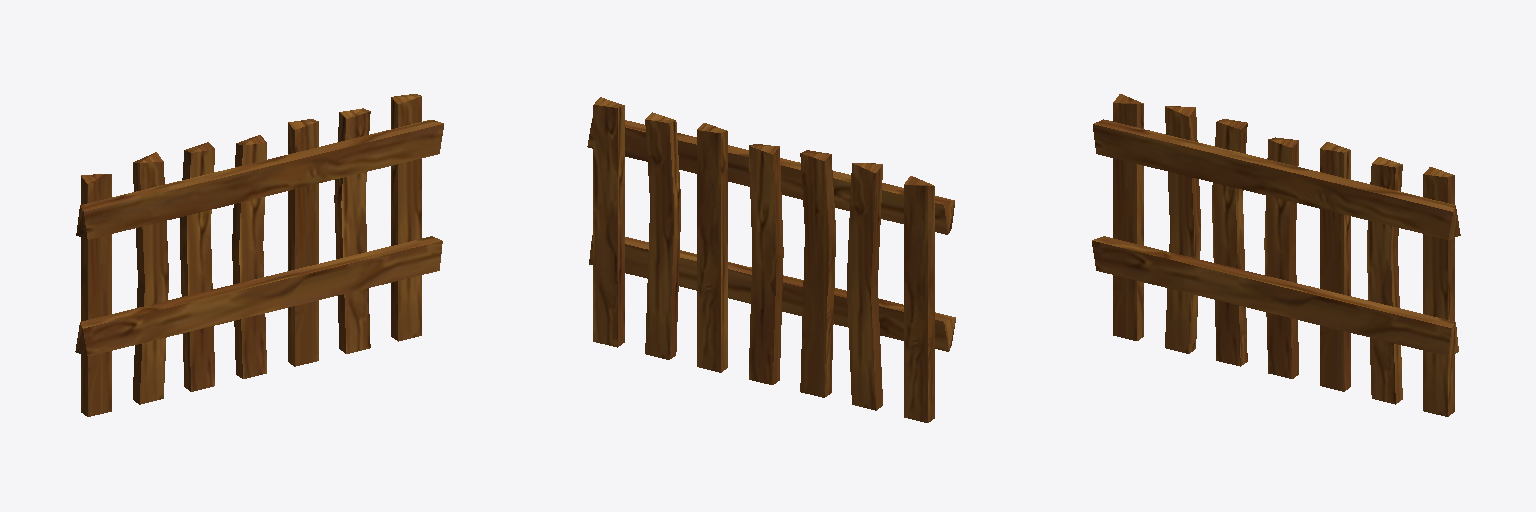
3 renders of one model, left to right at view 1: azimuth 30°, elevation 25°; view 2: azimuth 150°, elevation 25°; view 3: azimuth 330°, elevation 25°, orthographic.
Parts seen in each view (by area): view 1: wooden_cartoon_fench_fench_uvlayout; view 2: wooden_cartoon_fench_fench_uvlayout; view 3: wooden_cartoon_fench_fench_uvlayout.
Boxes of the visible parts, box(x1,y1,x2,y2) form: wooden_cartoon_fench_fench_uvlayout: box(75, 94, 443, 416); wooden_cartoon_fench_fench_uvlayout: box(587, 97, 955, 422); wooden_cartoon_fench_fench_uvlayout: box(1092, 94, 1460, 416).
Bounding box in the file's own units: 8.41 × 5.37 × 0.6153.
Materials: 1 (1 with a texture image).